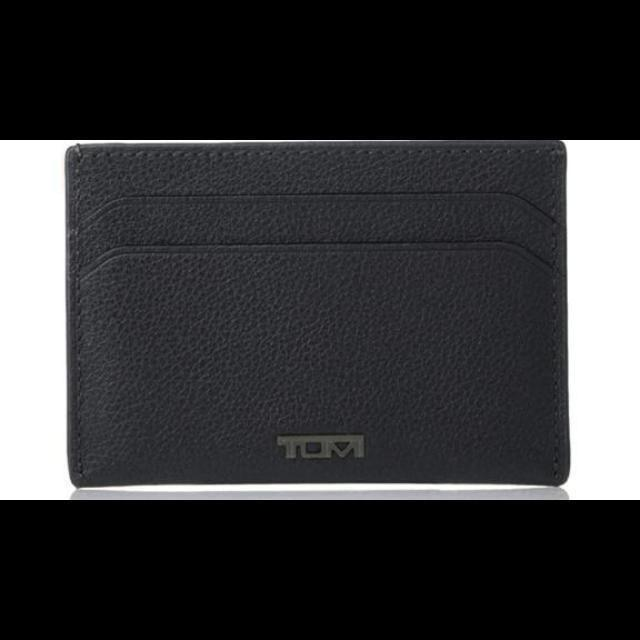Wallet: (65, 142, 569, 486)
